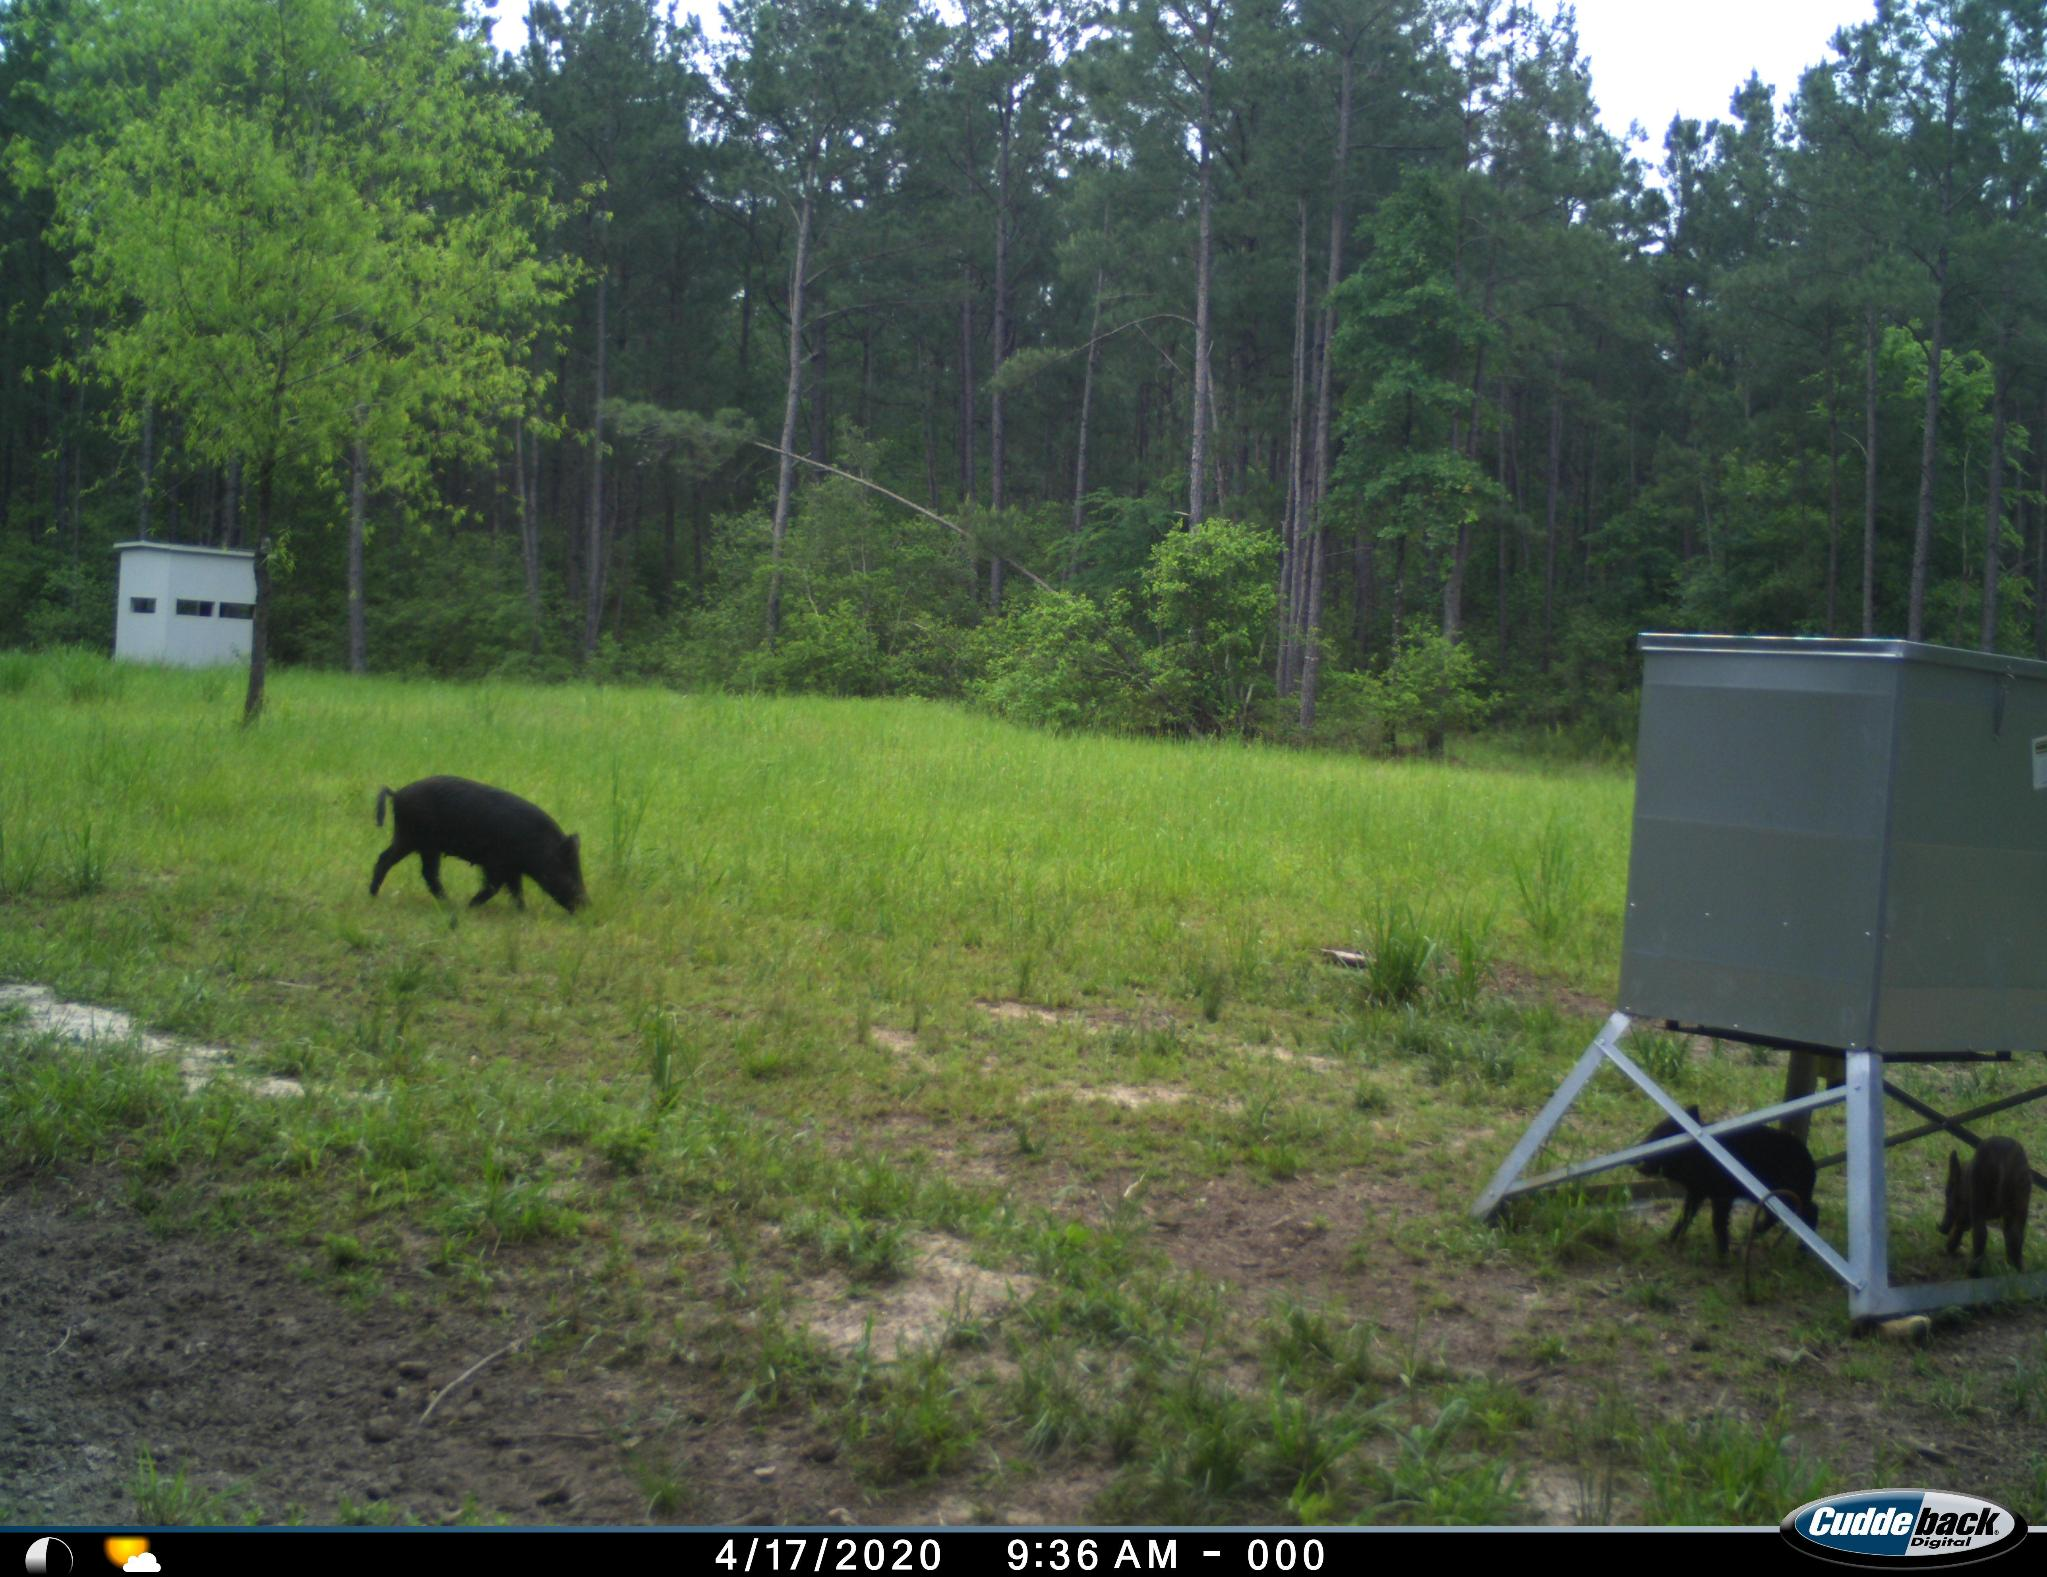Hog: (358, 769, 603, 939), (1631, 1100, 1828, 1262), (1936, 1130, 2042, 1297)
